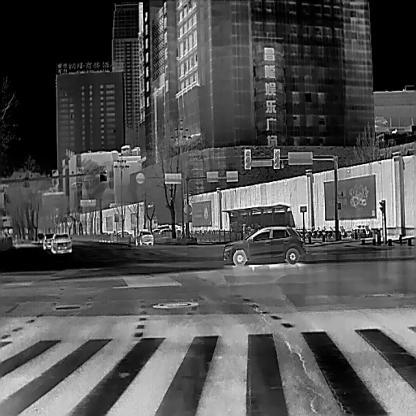car: (222, 224, 306, 266), (50, 233, 72, 254), (135, 228, 154, 245), (41, 233, 54, 249), (36, 232, 44, 242)
